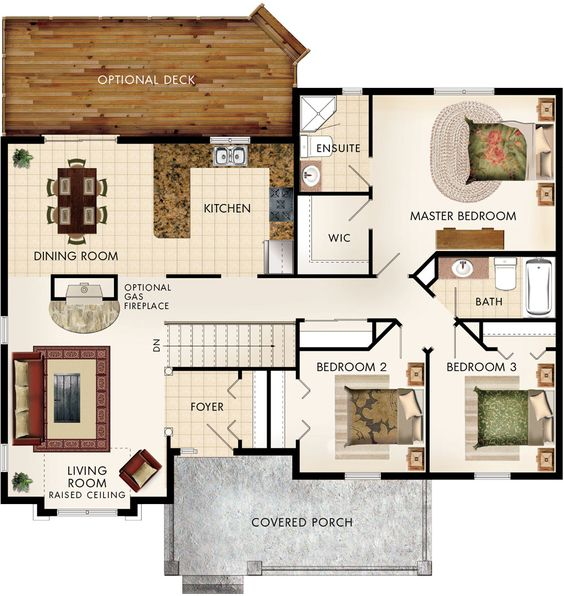room: (1, 136, 298, 279), (1, 273, 175, 504), (369, 89, 562, 256), (295, 348, 432, 481), (424, 347, 561, 480)
